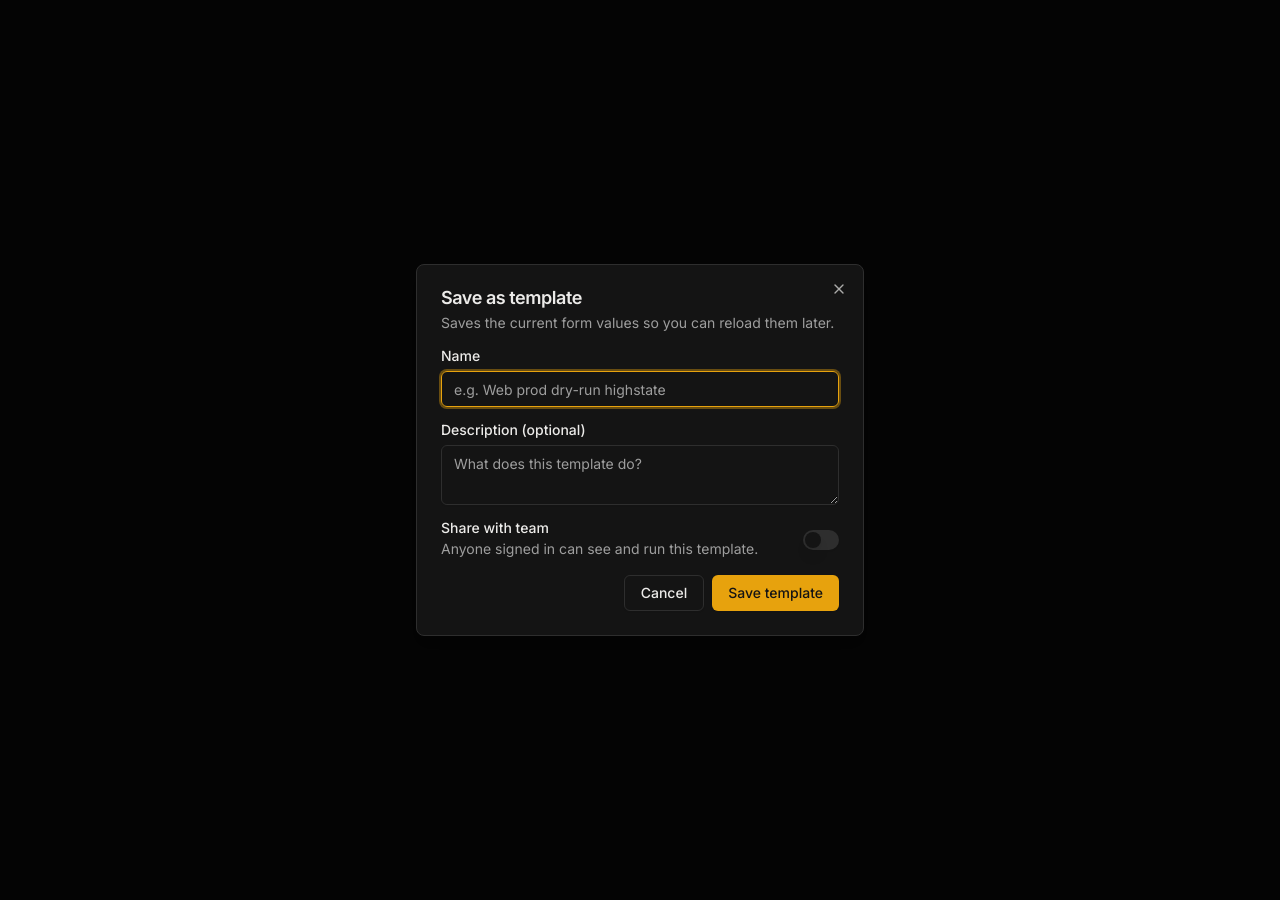
SaveTemplateDialog › shows a validation error when name is empty
Click the button "Save template": (776,593) [712,575,839,611]
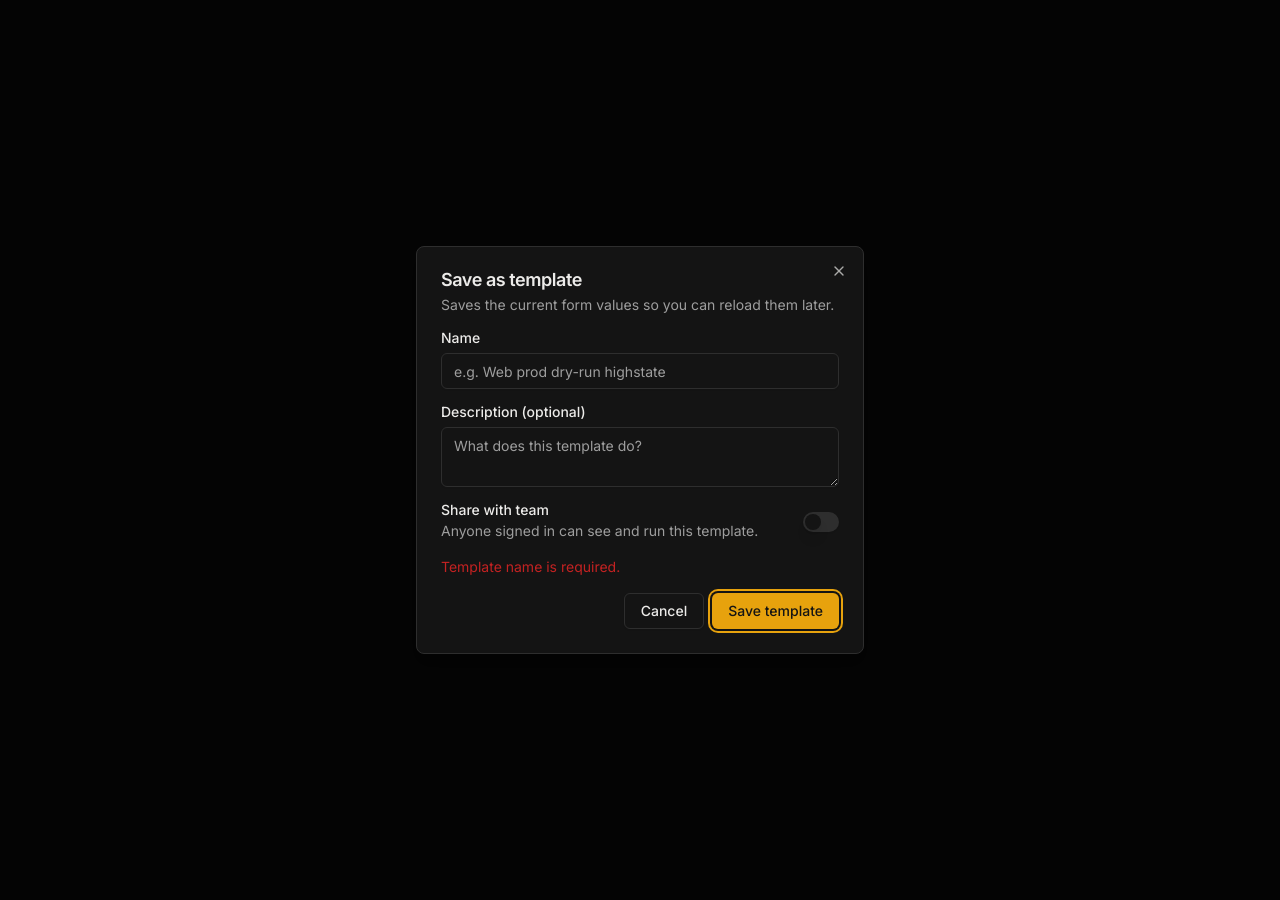
expect the text "Template name is required." is shown: met, box [441,558,620,575]
